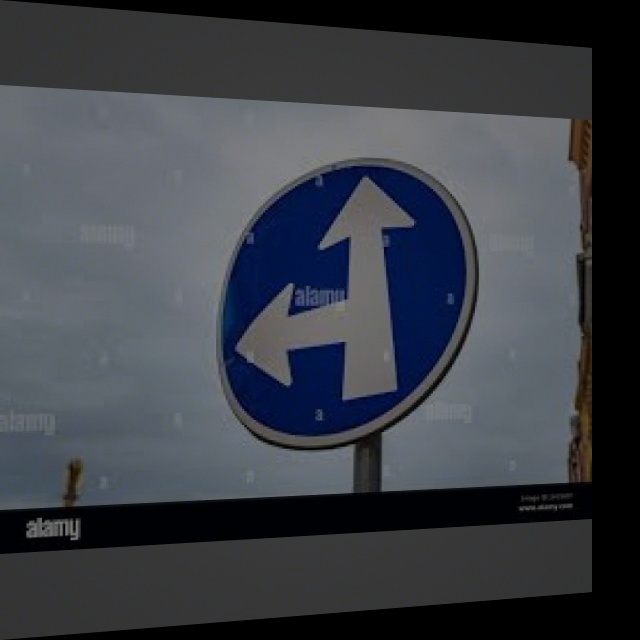Compulsory_Ahead_or_Turn_Left: (224, 153, 474, 445)
